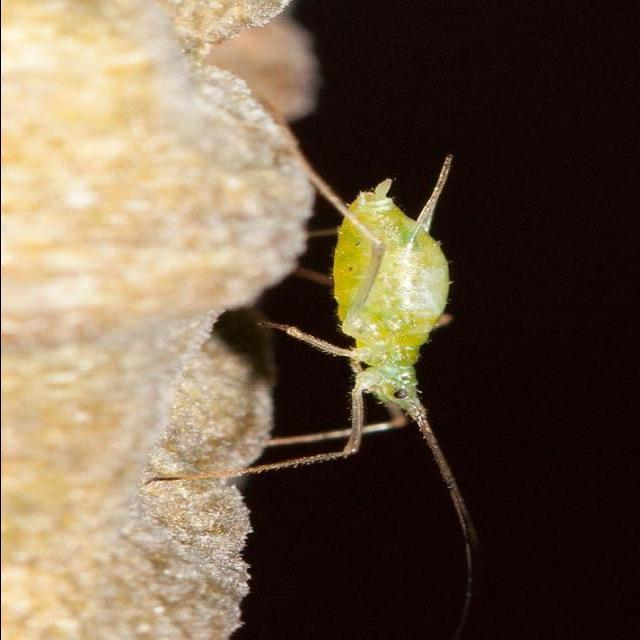aphid: (195, 111, 502, 579)
